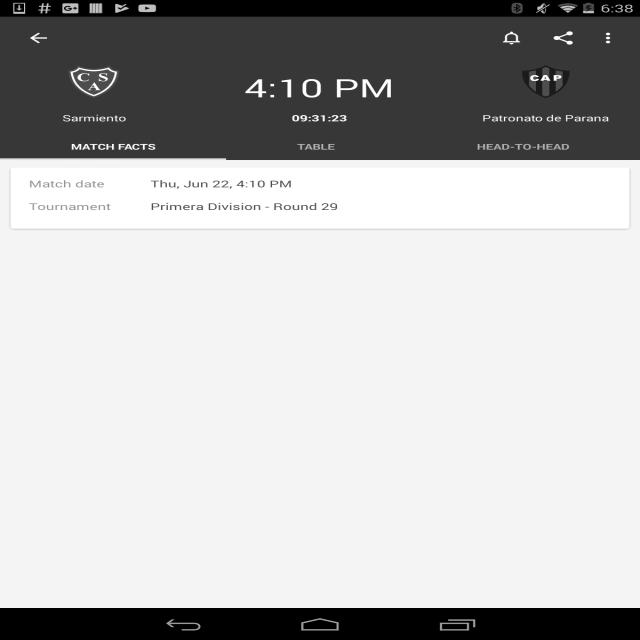ImageButton: (9, 17, 68, 59)
ImageView: (456, 64, 640, 98), (0, 64, 182, 98), (589, 22, 631, 54)
TextView: (405, 133, 640, 160), (0, 133, 226, 160), (244, 70, 395, 104), (226, 133, 405, 160), (456, 107, 640, 129), (0, 107, 182, 129), (182, 112, 456, 124), (151, 200, 338, 213), (150, 177, 292, 190), (487, 22, 538, 54), (538, 22, 588, 54), (29, 177, 146, 190), (29, 200, 146, 213)
